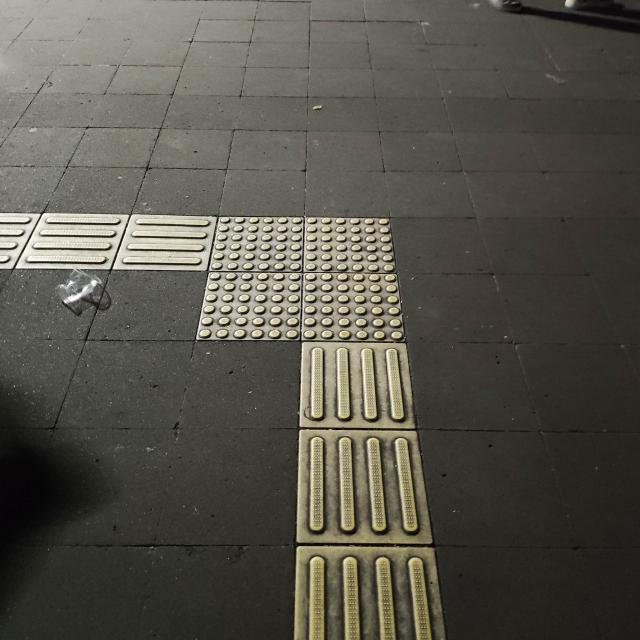kiri: (81, 181, 443, 388)
